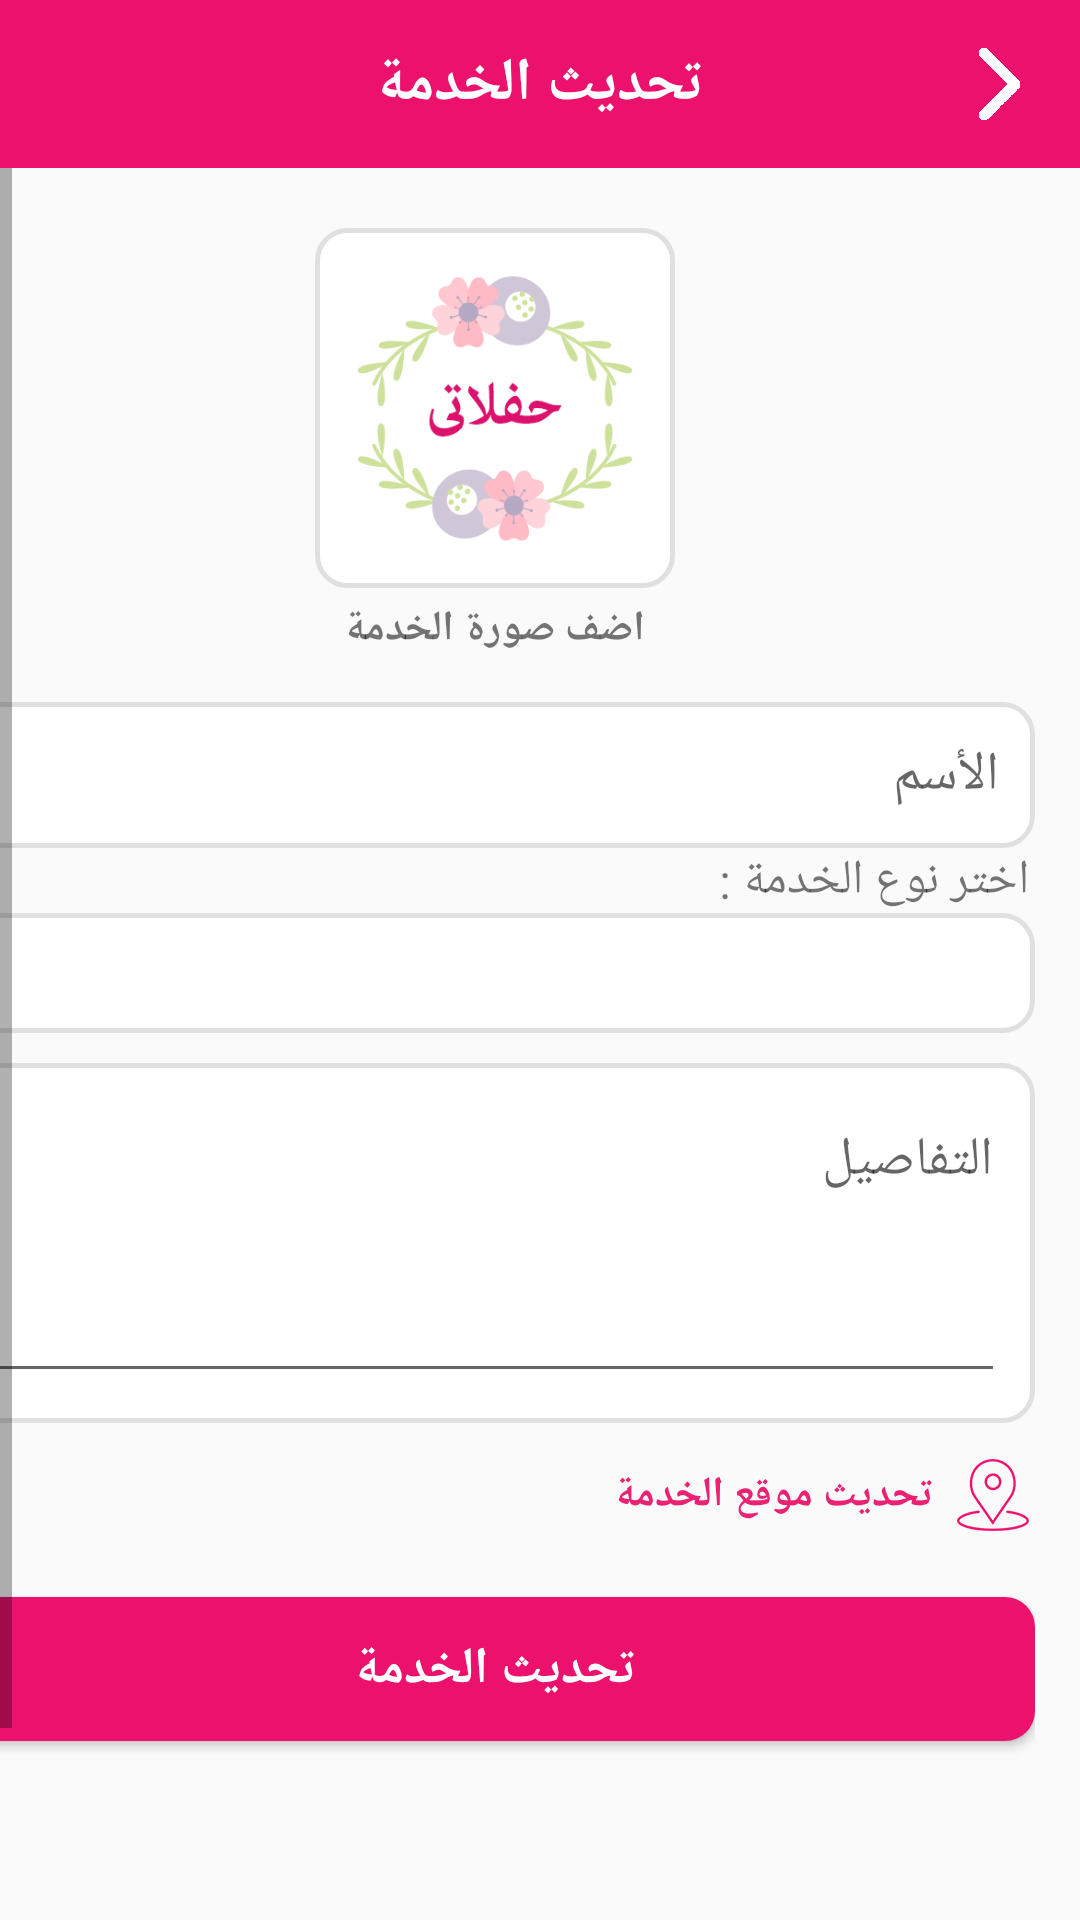

Locate icon controls on the screen. Image size 1080*1920, boxes as (x1, y1, x2, y2).
arwo: (979, 48, 1020, 120)
location: (957, 1459, 1029, 1531)
